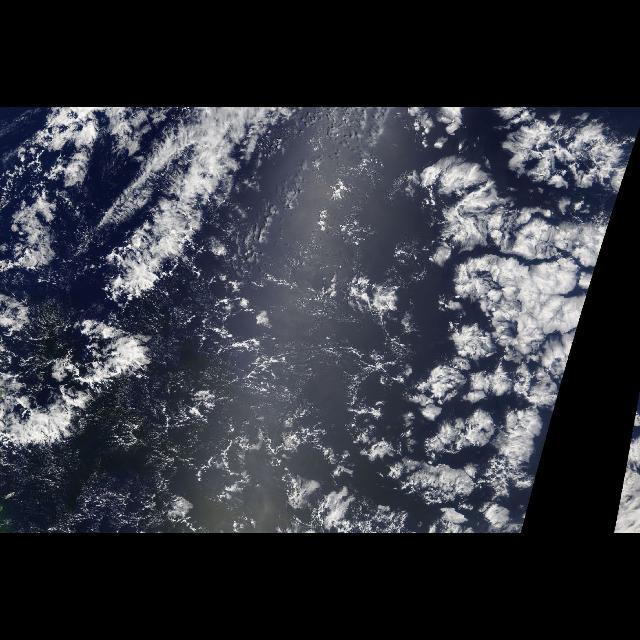Flower: (373, 167, 627, 533), (612, 389, 640, 533)
